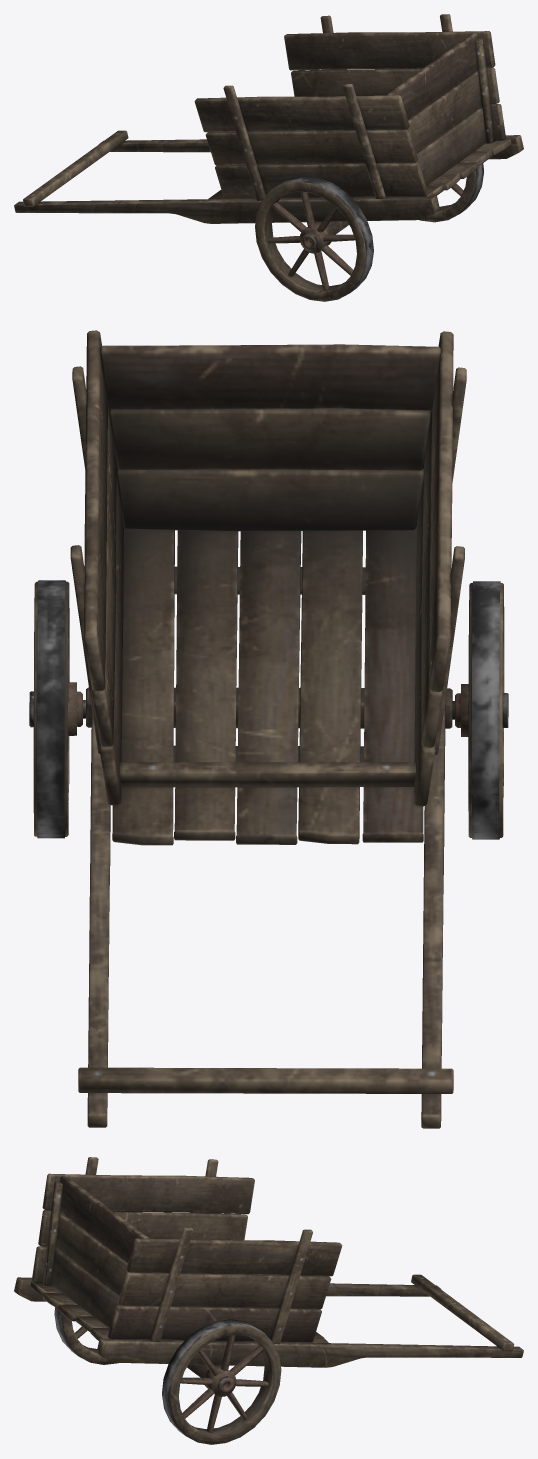
File: handcart.glb
The picture shows the model from 3 angles, top to bottom: view 1: azimuth 30°, elevation 25°; view 2: azimuth 150°, elevation 25°; view 3: azimuth 270°, elevation 25°; orthographic projection. The views are drawn at different scales.
Visible parts, largest first — view 1: Handcart_Handcart_Wood_0; view 2: Handcart_Handcart_Wood_0; view 3: Handcart_Handcart_Wood_0.
Boxes of the visible parts, x1,y1,x2,y2 form: Handcart_Handcart_Wood_0: (14, 14, 523, 301); Handcart_Handcart_Wood_0: (29, 330, 508, 1128); Handcart_Handcart_Wood_0: (14, 1157, 523, 1444).
Bounding box in the file's own units: 5.62 × 3.39 × 7.28.
Materials: 2 (2 with a texture image).
